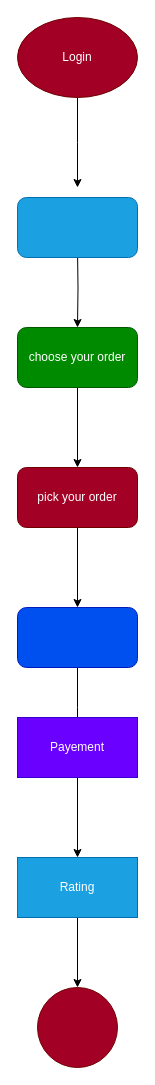
Some shapes in this 155 by 1085 pixel diagram are drawn without their labels. Each missing label, with the box of its shape:
Add your Adress: (16, 606, 138, 668)
Done Rating: (36, 986, 118, 1068)
Select your order: (16, 196, 138, 258)
